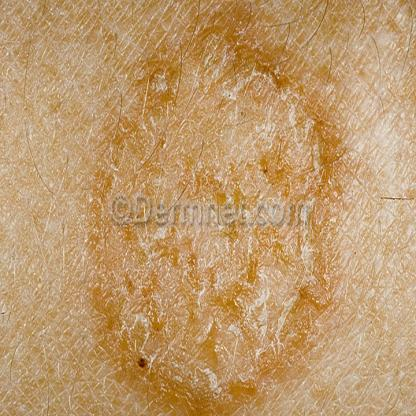Eczema: (77, 242, 351, 411)
